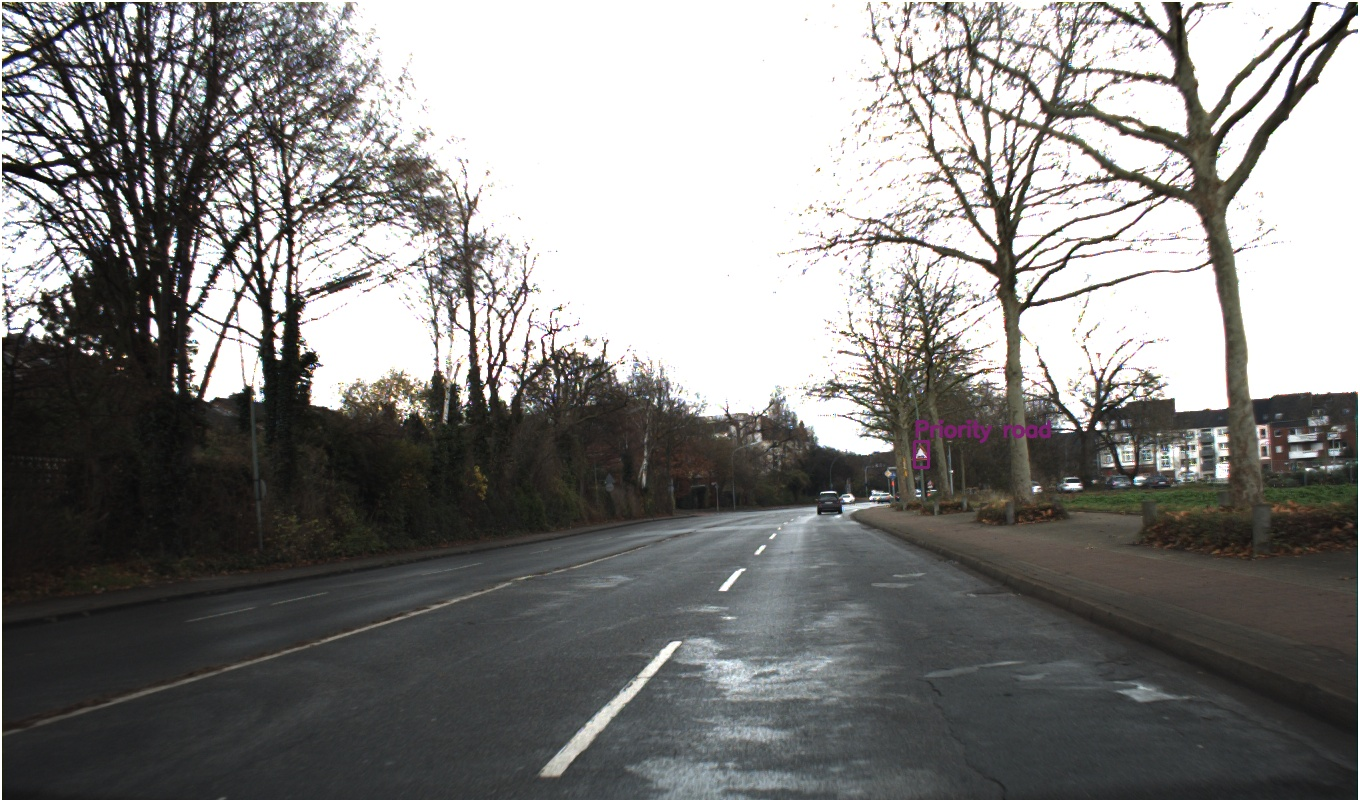No passing: (965, 435, 988, 458), (509, 466, 531, 488)
Speed limit (70km/h): (964, 412, 988, 435)
